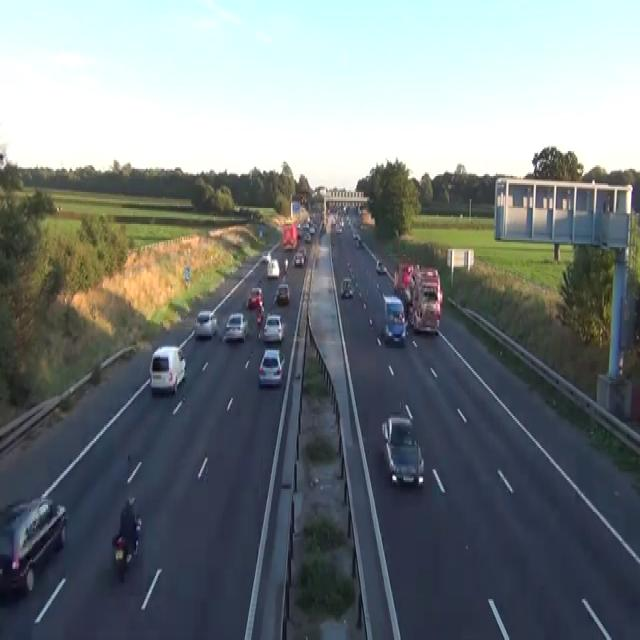Car: (0, 494, 67, 596), (381, 414, 424, 487), (111, 496, 142, 580), (149, 345, 186, 395), (258, 348, 285, 388), (417, 265, 443, 306), (112, 532, 131, 582), (222, 311, 248, 341), (194, 309, 218, 338), (263, 313, 284, 343), (383, 317, 406, 343), (297, 215, 317, 242), (247, 286, 263, 310), (275, 283, 290, 304), (266, 258, 279, 279), (340, 277, 353, 297), (293, 247, 306, 267), (256, 302, 264, 324), (375, 260, 386, 274), (0, 147, 7, 169), (297, 246, 306, 262), (352, 231, 361, 247), (261, 251, 271, 263), (258, 226, 267, 236), (283, 256, 288, 272), (304, 231, 311, 242), (308, 224, 315, 235), (355, 235, 361, 247), (296, 224, 302, 236), (319, 224, 325, 235), (55, 204, 62, 213), (335, 224, 342, 233), (0, 151, 4, 164), (330, 215, 335, 224), (347, 217, 351, 227), (259, 228, 262, 236), (347, 260, 351, 266)
Truck: (409, 263, 442, 334), (382, 292, 406, 343), (282, 222, 298, 249)
